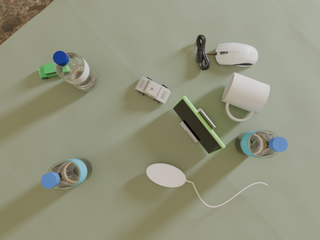bottle: (53, 51, 98, 91), (41, 158, 92, 190), (235, 130, 288, 158)
cup: (222, 73, 270, 122)
mouse: (213, 43, 258, 67), (147, 164, 186, 187)
phone: (173, 96, 225, 154)
toy_car: (135, 77, 171, 104), (39, 63, 58, 79)
